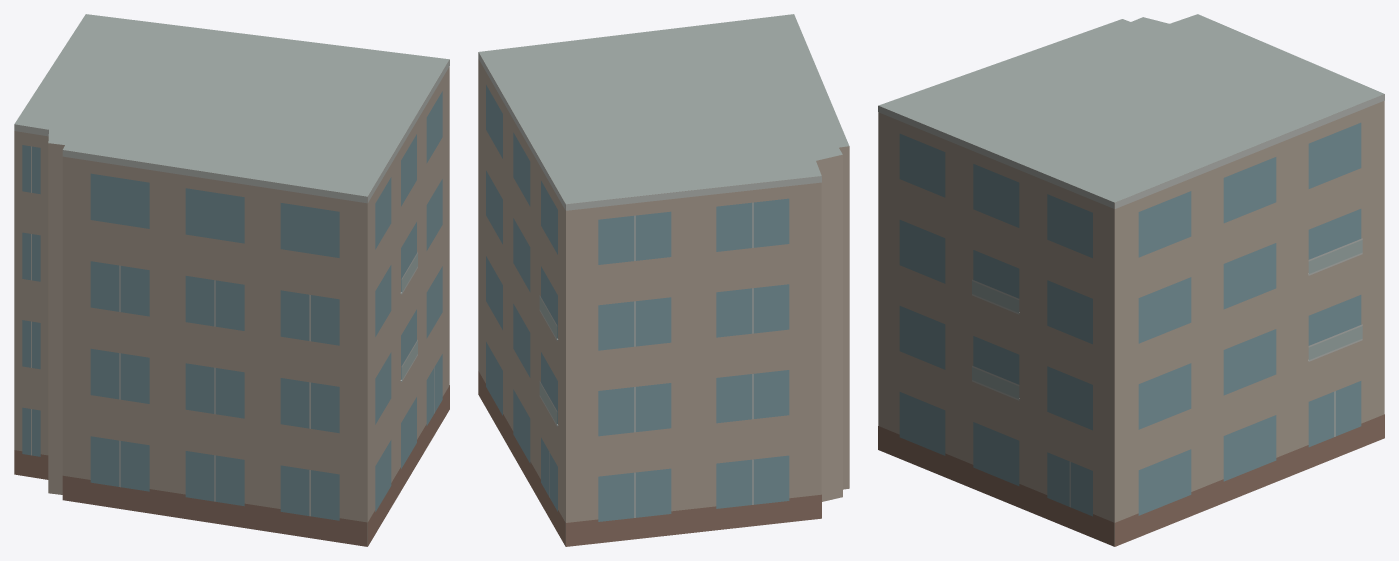
Rendered from survey-upis-32597825.glb.
The picture shows the model from 3 angles, left to right: view 1: azimuth 30°, elevation 25°; view 2: azimuth 150°, elevation 25°; view 3: azimuth 270°, elevation 25°; orthographic projection. The views are drawn at different scales.
Visible parts, largest first — view 1: survey-upis-32597825.tmp; view 2: survey-upis-32597825.tmp; view 3: survey-upis-32597825.tmp.
Part boxes in pixels (left/top/right/bottom): survey-upis-32597825.tmp: left=14, top=14, right=449, bottom=546; survey-upis-32597825.tmp: left=478, top=14, right=849, bottom=546; survey-upis-32597825.tmp: left=878, top=14, right=1384, bottom=546.
Bounding box in the file's own units: 15.05 × 12.8 × 17.08.
